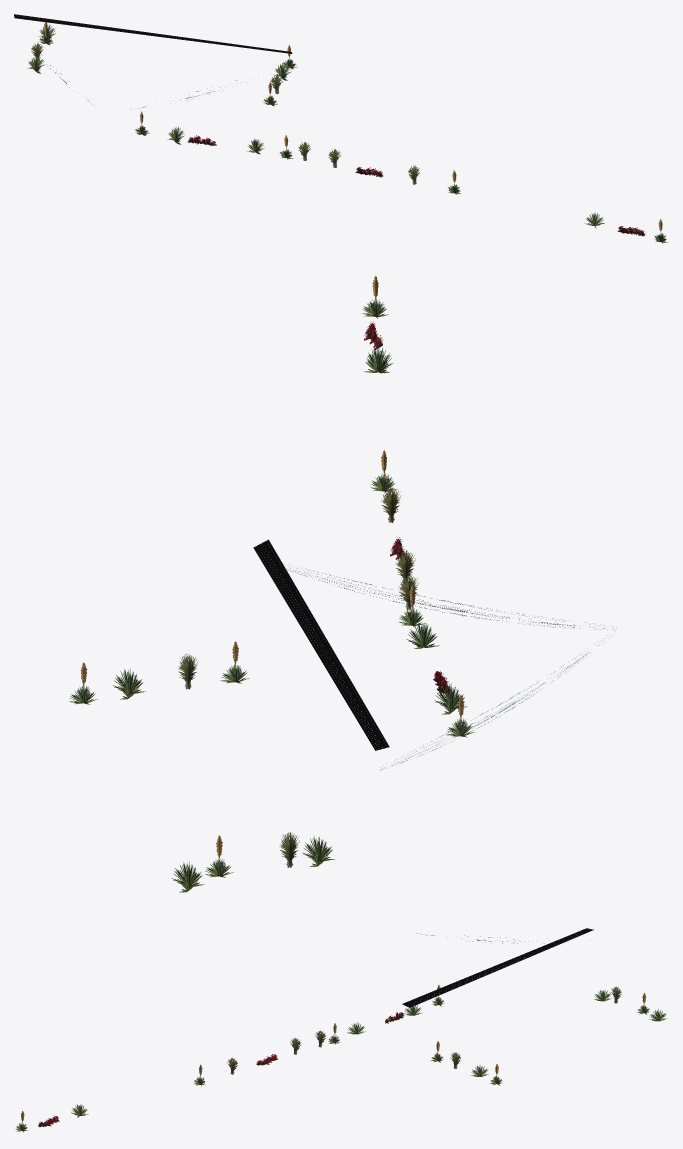
The model's file is roads34tr_law2.obj.
3 views of the same model, one above another, from view 1: azimuth 30°, elevation 25°; view 2: azimuth 150°, elevation 25°; view 3: azimuth 270°, elevation 25° (orthographic). The views are drawn at different scales.
Visible parts, largest first — view 1: Roads34Tr_LAw2; view 2: Roads34Tr_LAw2; view 3: Roads34Tr_LAw2.
Part boxes in pixels (box(x1,y1,x2,y2)): Roads34Tr_LAw2: box(14, 14, 667, 243); Roads34Tr_LAw2: box(69, 275, 616, 892); Roads34Tr_LAw2: box(15, 928, 666, 1132).
Size of the model in its own units: 69.58 by 13.26 by 126.
